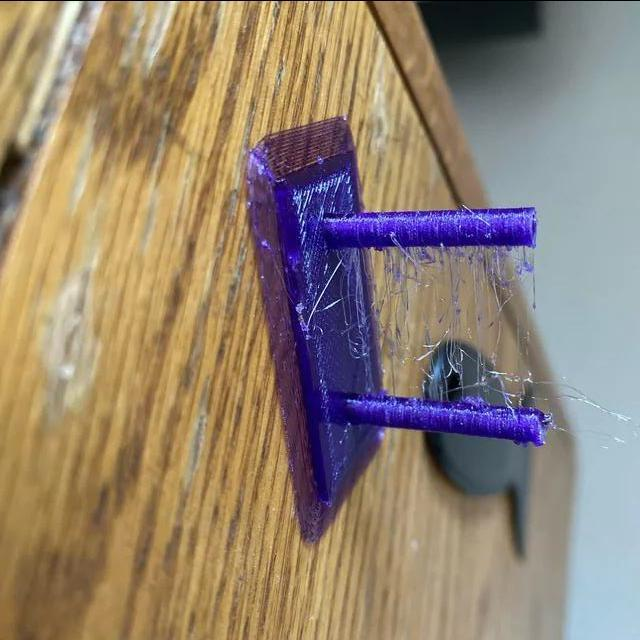Stringing: (390, 240, 536, 308), (418, 338, 520, 402)
